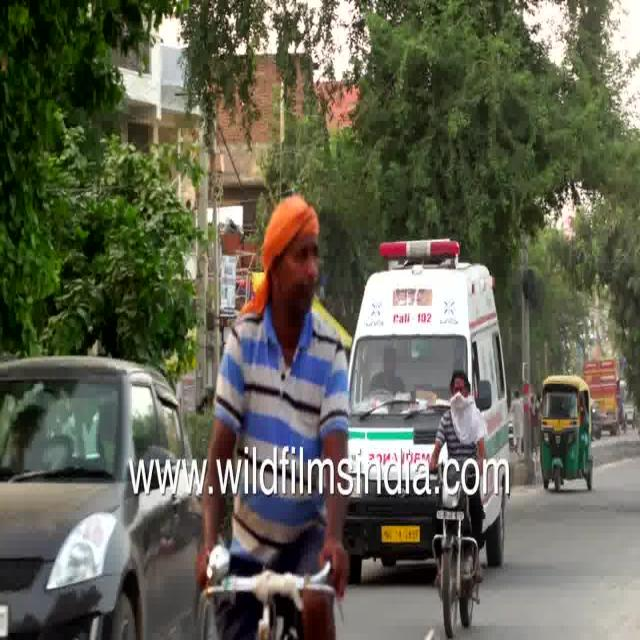ambulance: (345, 231, 515, 441)
